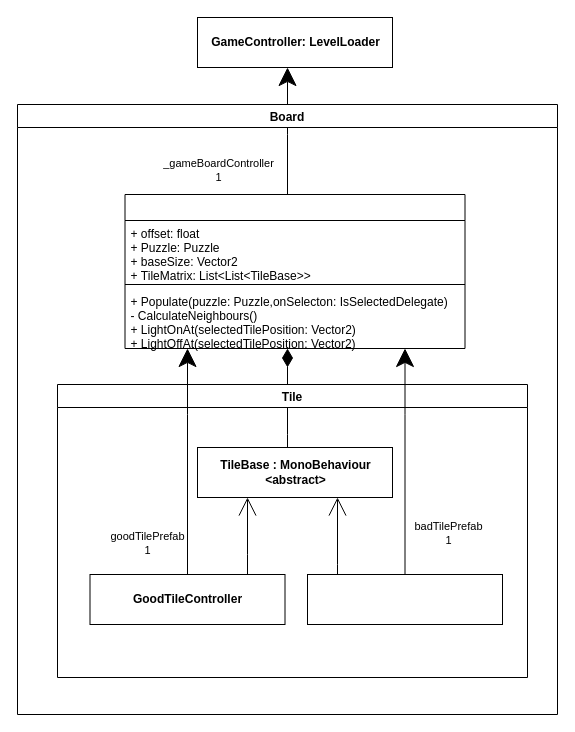
Some shapes in this 575 by 732 pixel diagram are drawn without their labels. The shapes that lost their labels are listed below. From the top down, each one's box as (x1, y1, x2, y2) in pixels, then its label:
(124, 194, 465, 348): GameBoardController : MonoBehaviour
(306, 574, 502, 624): BadTileController
